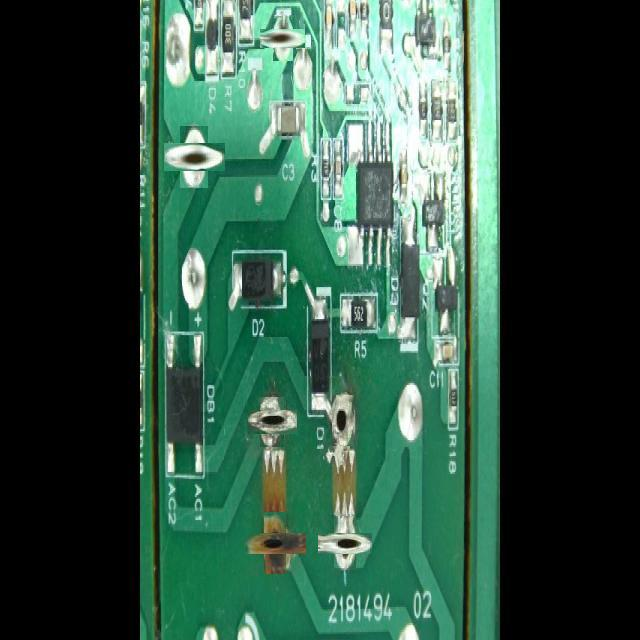damged: (172, 135, 216, 180), (254, 522, 296, 564), (326, 524, 364, 562), (253, 404, 290, 441), (332, 396, 354, 448), (266, 22, 300, 55)
